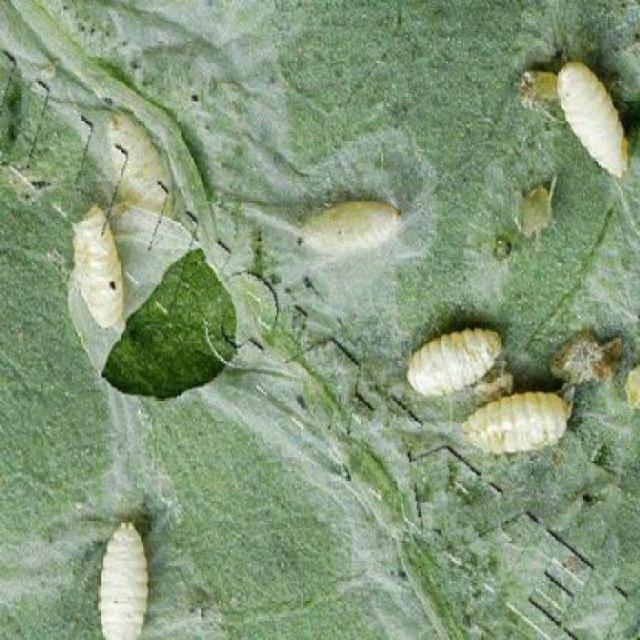whorl-maggot: (457, 380, 591, 462), (551, 59, 635, 184), (89, 511, 160, 640), (294, 186, 411, 260), (403, 324, 511, 394), (72, 205, 123, 326)
